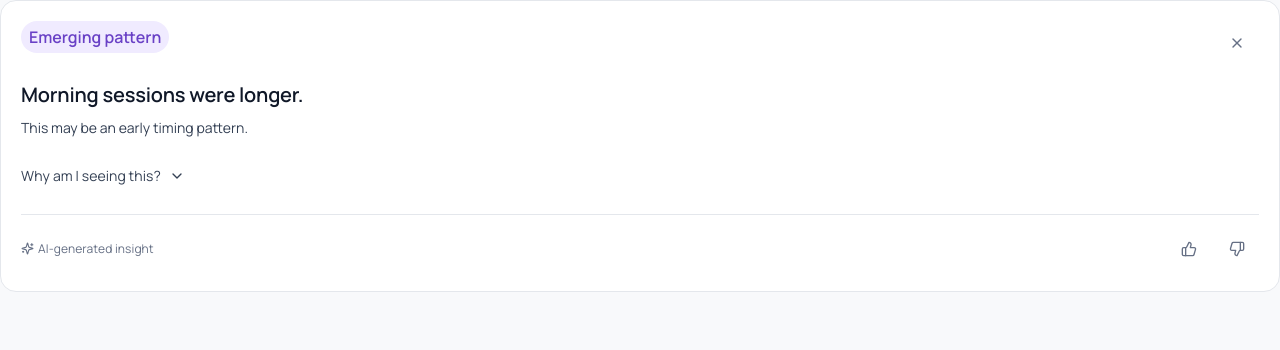
Test case: InsightCard › shows evidence through a keyboard-accessible disclosure
Click the button "Why am I seeing this?". click: {"x": 103, "y": 176}
box: [21,154,185,198]
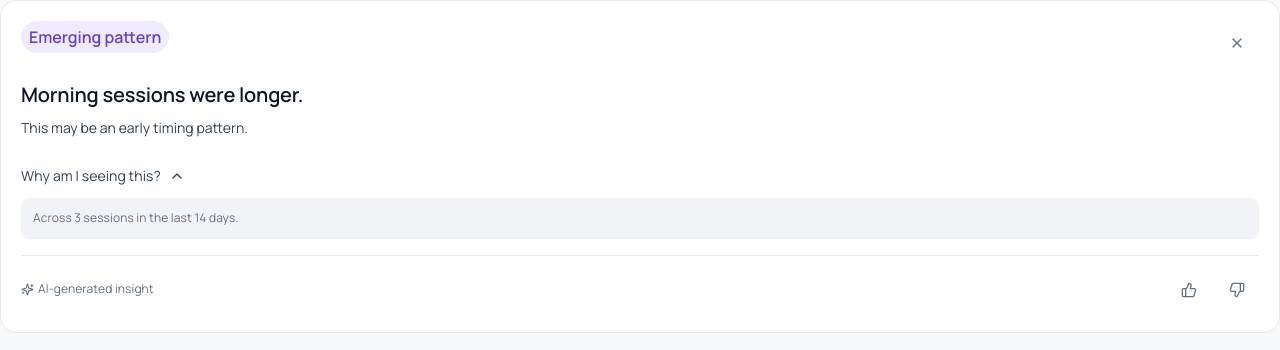
Result: the text "Across 3 sessions in the last 14 days." is shown at [21,198,1259,239]
